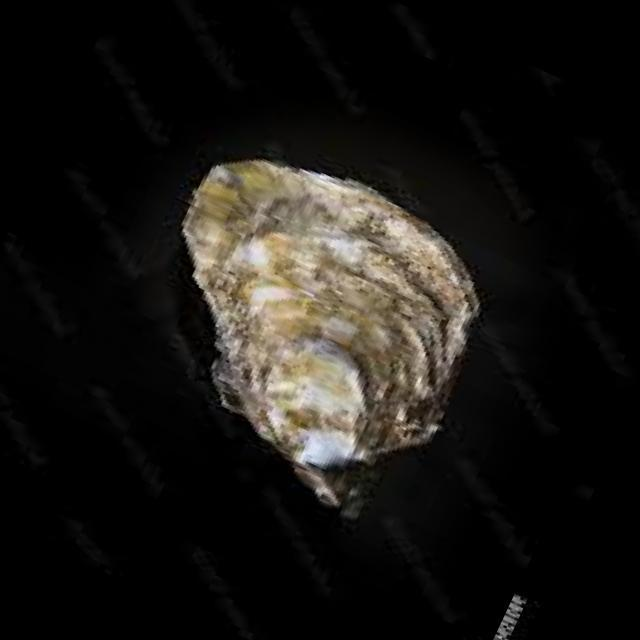Oyster- Indeterminate: (182, 160, 479, 514)
